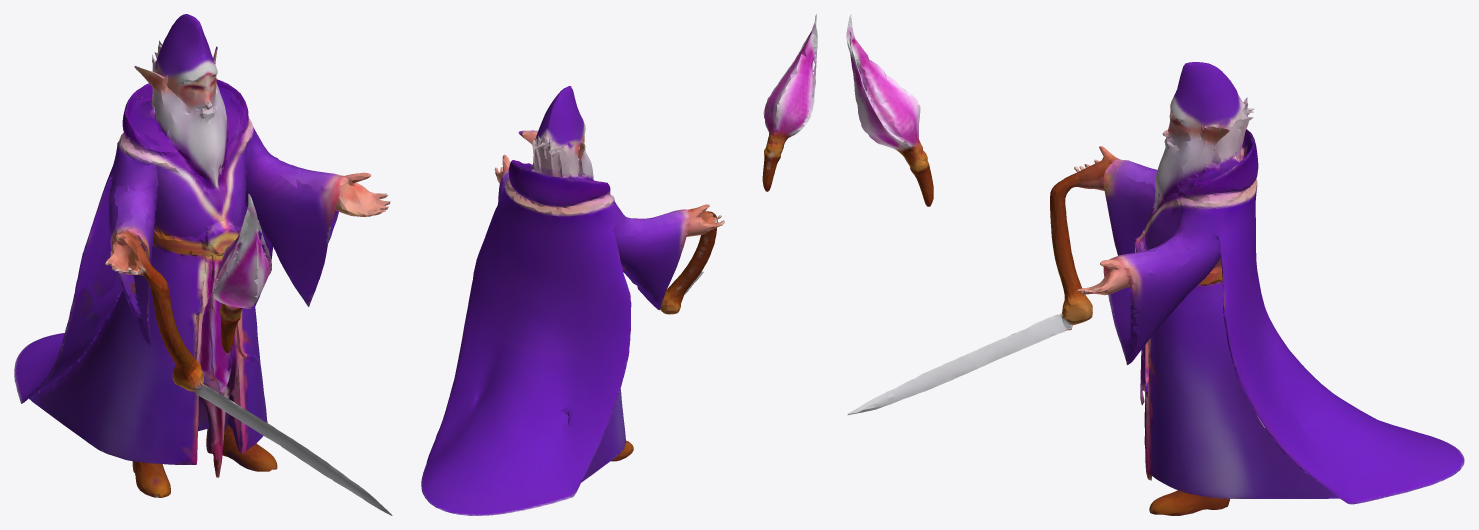
File: nightelf_mage.glb
3 renders of one model, left to right at view 1: azimuth 30°, elevation 25°; view 2: azimuth 150°, elevation 25°; view 3: azimuth 270°, elevation 25°, orthographic. The views are drawn at different scales.
Parts seen in each view (by area): view 1: NightElf_Mage; view 2: NightElf_Mage; view 3: NightElf_Mage.
Part boxes in pixels (x1,y1,x2,y2): NightElf_Mage: [14, 14, 392, 515]; NightElf_Mage: [421, 14, 817, 515]; NightElf_Mage: [846, 14, 1464, 515].
Size of the model in its own units: 1.7 by 2.59 by 3.41.
Materials: 1 (1 with a texture image).
